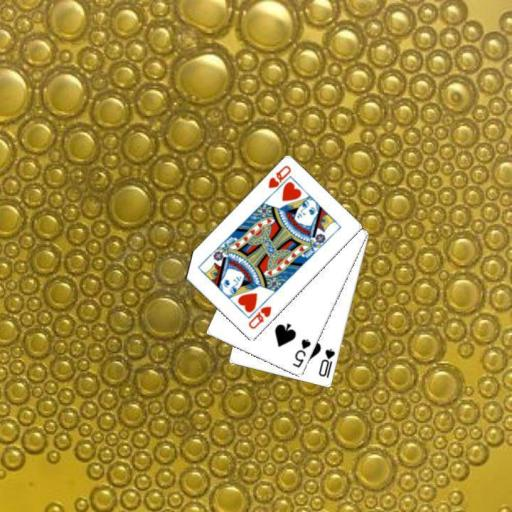card-corner: (265, 162, 293, 198), (289, 336, 313, 370), (245, 304, 273, 330), (316, 346, 336, 380)
